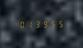five: (50, 19, 57, 27), (58, 19, 65, 27)
nine: (42, 19, 49, 27)
one: (25, 20, 32, 28)
three: (34, 20, 41, 28)
zero: (17, 20, 24, 28)
